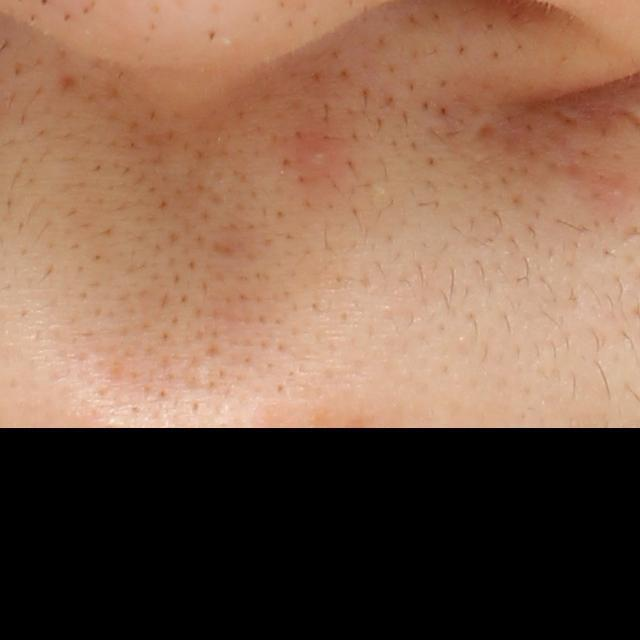pustule: (294, 131, 343, 181)
